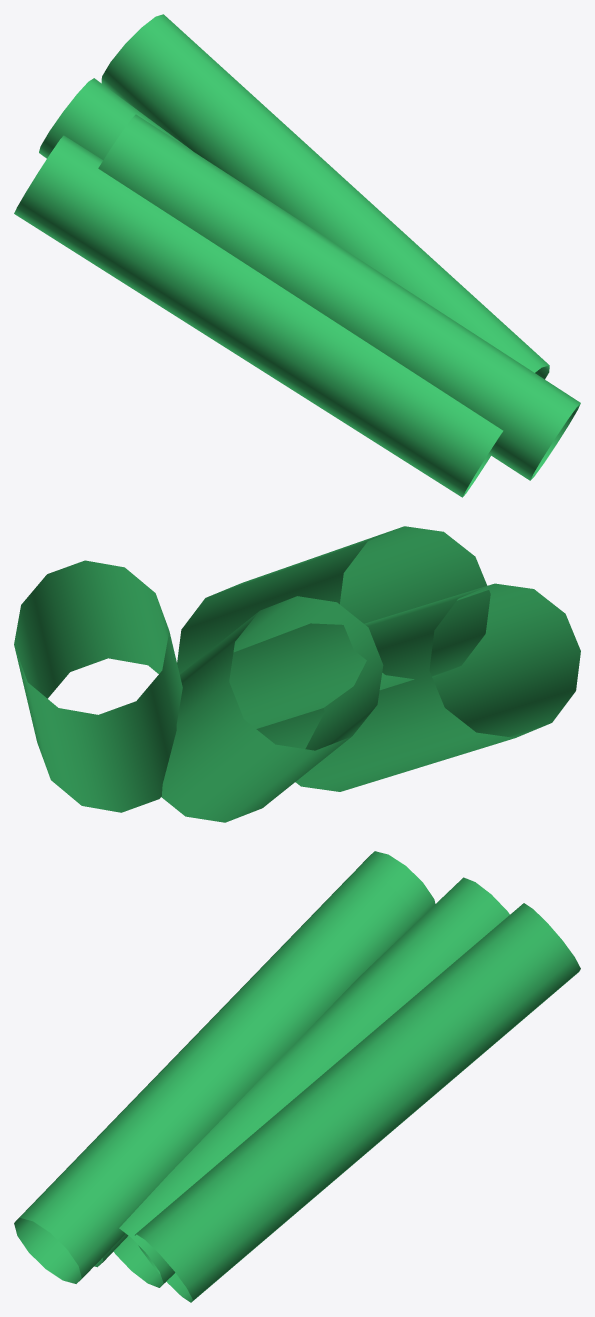
File: OnionLong.glb
3 renders of one model, top to bottom at view 1: azimuth 30°, elevation 25°; view 2: azimuth 150°, elevation 25°; view 3: azimuth 270°, elevation 25°, orthographic. The views are drawn at different scales.
Parts seen in each view (by area): view 1: NurbsPath.002, NurbsPath.003, NurbsPath.001, NurbsPath; view 2: NurbsPath.002, NurbsPath.003, NurbsPath.001, NurbsPath; view 3: NurbsPath.001, NurbsPath.003, NurbsPath, NurbsPath.002.
Boxes of the visible parts, x1=… form: NurbsPath.002: x1=14, y1=135, x2=503, y2=497; NurbsPath.003: x1=98, y1=114, x2=580, y2=480; NurbsPath.001: x1=101, y1=14, x2=549, y2=379; NurbsPath: x1=39, y1=78, x2=191, y2=159; NurbsPath.002: x1=256, y1=583, x2=580, y2=791; NurbsPath.003: x1=177, y1=526, x2=490, y2=728; NurbsPath.001: x1=14, y1=560, x2=182, y2=812; NurbsPath: x1=161, y1=596, x2=383, y2=822; NurbsPath.001: x1=135, y1=903, x2=580, y2=1302; NurbsPath.003: x1=14, y1=868, x2=417, y2=1283; NurbsPath: x1=113, y1=877, x2=509, y2=1287; NurbsPath.002: x1=94, y1=851, x2=435, y2=1267.
Bounding box in the file's own units: 0.6326 × 0.4693 × 0.7534.
